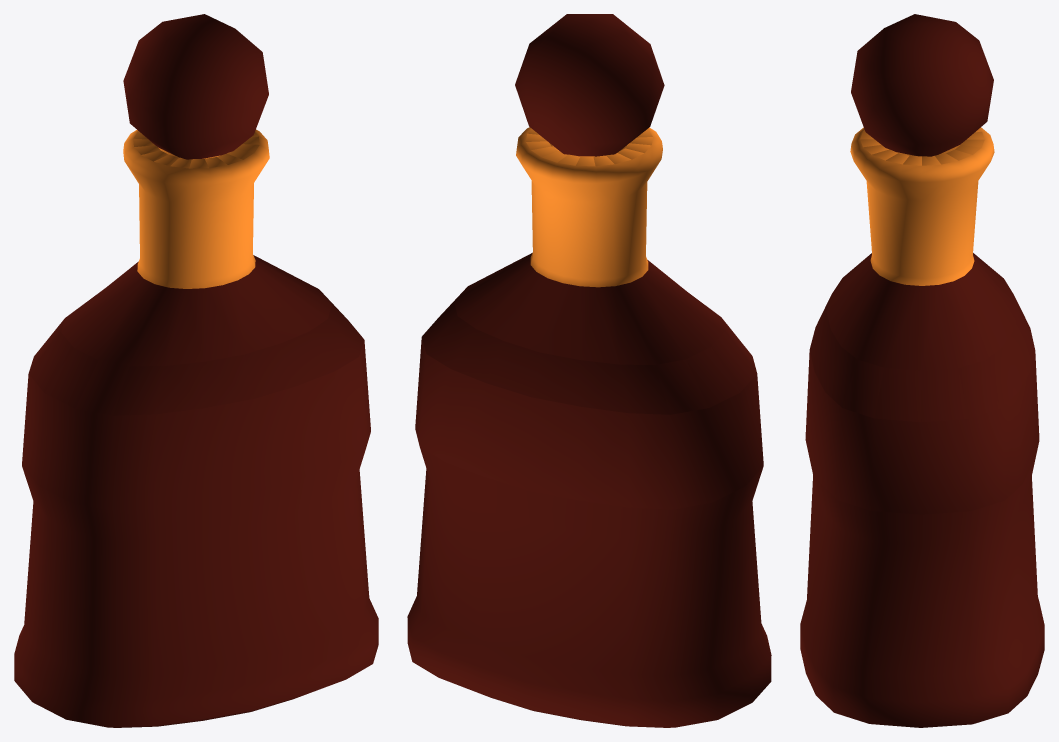
File: Wine 11.fbx
3 renders of one model, left to right at view 1: azimuth 30°, elevation 25°; view 2: azimuth 150°, elevation 25°; view 3: azimuth 270°, elevation 25°, orthographic. The views are drawn at different scales.
Parts seen in each view (by area): view 1: Node 0; view 2: Node 0; view 3: Node 0.
Part boxes in pixels (left/top/right/bottom): Node 0: left=14, top=14, right=378, bottom=727; Node 0: left=407, top=14, right=771, bottom=727; Node 0: left=800, top=14, right=1044, bottom=727.
Size of the model in its own units: 0.0798 by 0.2288 by 0.1208.
